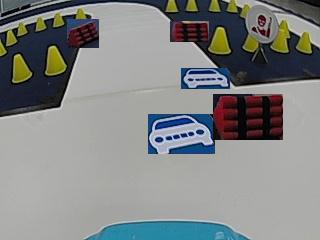evil: (244, 5, 278, 43)
